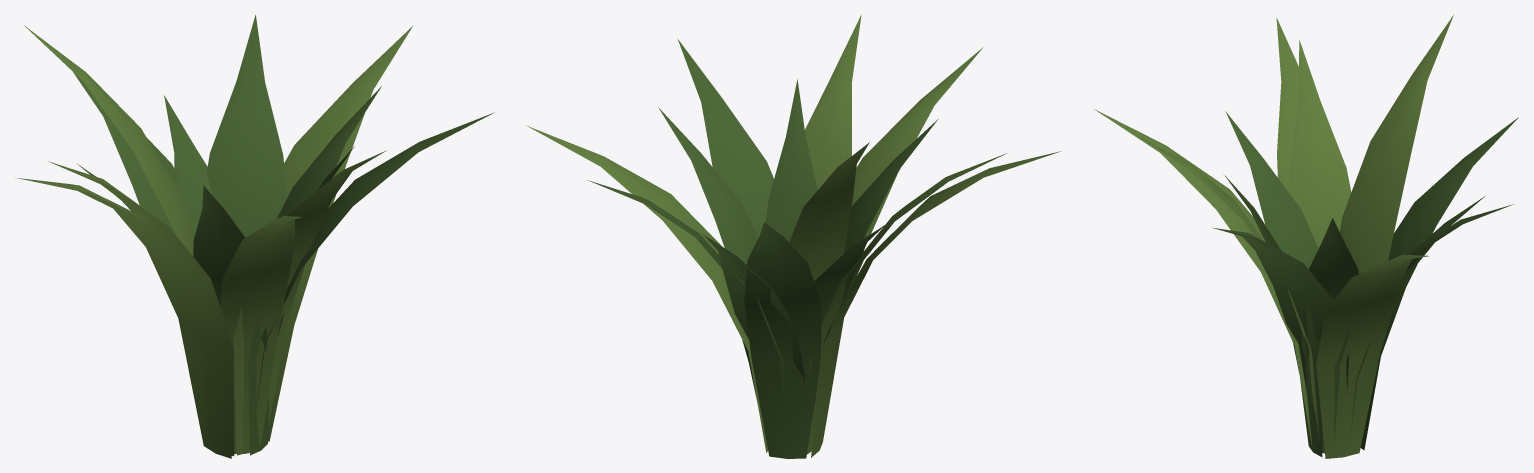
File: fern_clump.glb
The picture shows the model from 3 angles, left to right: view 1: azimuth 30°, elevation 25°; view 2: azimuth 150°, elevation 25°; view 3: azimuth 270°, elevation 25°; orthographic projection. The views are drawn at different scales.
Parts seen in each view (by area): view 1: fern_blades; view 2: fern_blades; view 3: fern_blades.
Part boxes in pixels (x1=…): fern_blades: x1=15, y1=15, x2=494, y2=458; fern_blades: x1=526, y1=14, x2=1061, y2=458; fern_blades: x1=1094, y1=15, x2=1518, y2=458.
Size of the model in its own units: 0.7668 by 0.6173 by 0.6499.
